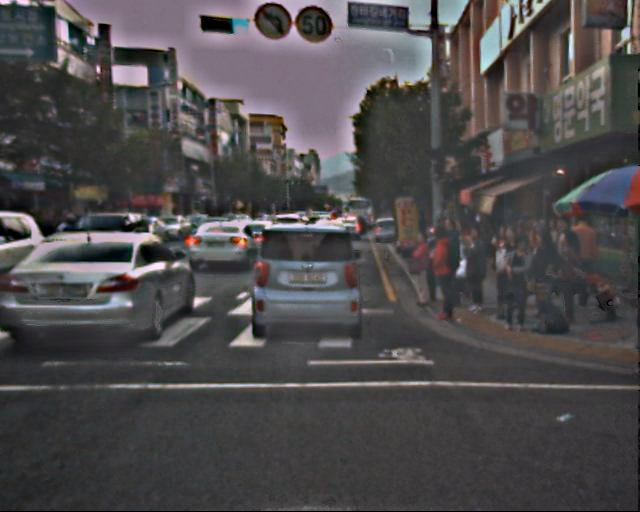person: (548, 231, 587, 327), (421, 229, 460, 324), (497, 239, 536, 333), (543, 216, 581, 309), (457, 224, 493, 311), (488, 224, 523, 310), (564, 208, 599, 294), (432, 218, 466, 301), (523, 233, 557, 315), (402, 230, 435, 310)
